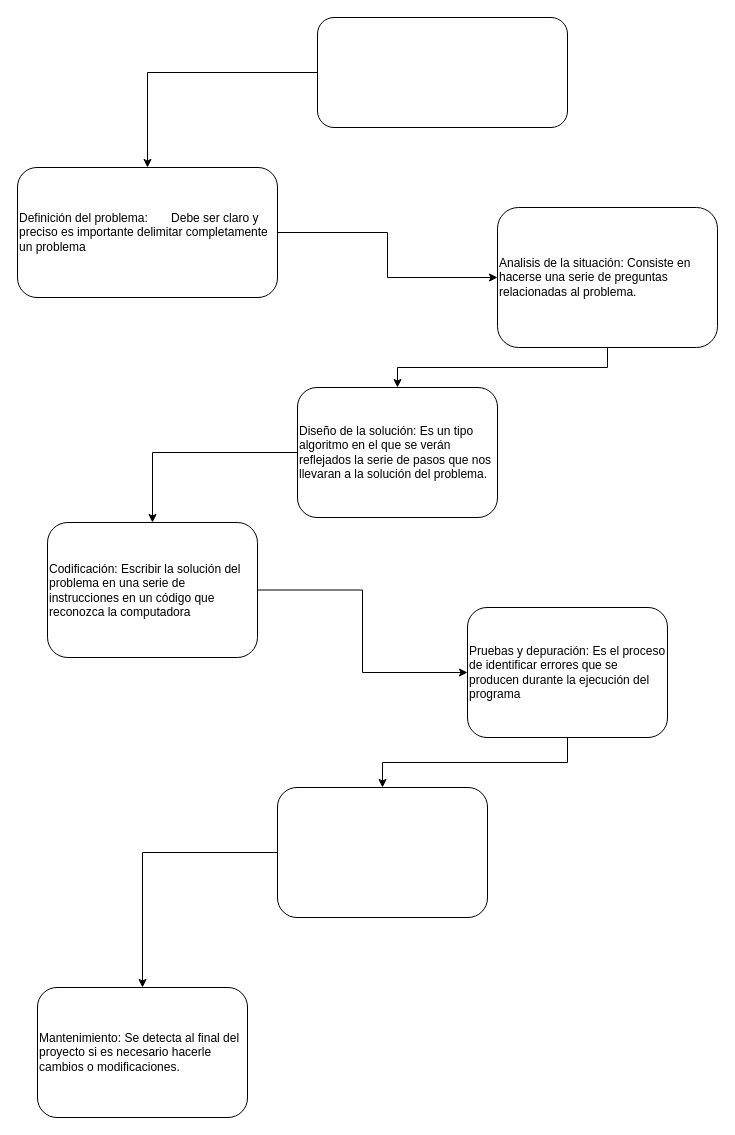
Some shapes in this 735 by 1135 pixel diagram are drawn without their labels. The centre of each missing label's shape, as x and y in pixels:
"Documentación: Es el instructivo o guía escrita para el uso del programa." goes at point (382, 852).
"SOLUCION DE PROBLEMAS A TRAVES DE UNA COMPUTADORA" goes at point (442, 72).
